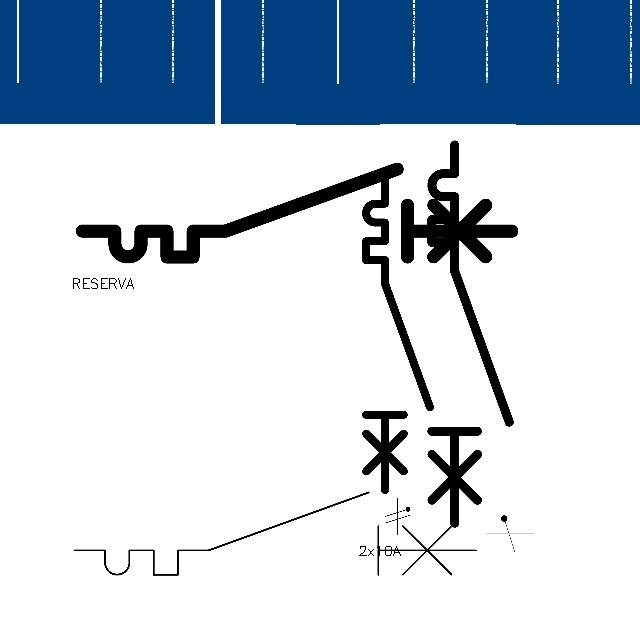interruptor_termomagnetico: (71, 158, 523, 268), (64, 482, 486, 585), (422, 135, 519, 533), (358, 172, 437, 498)
